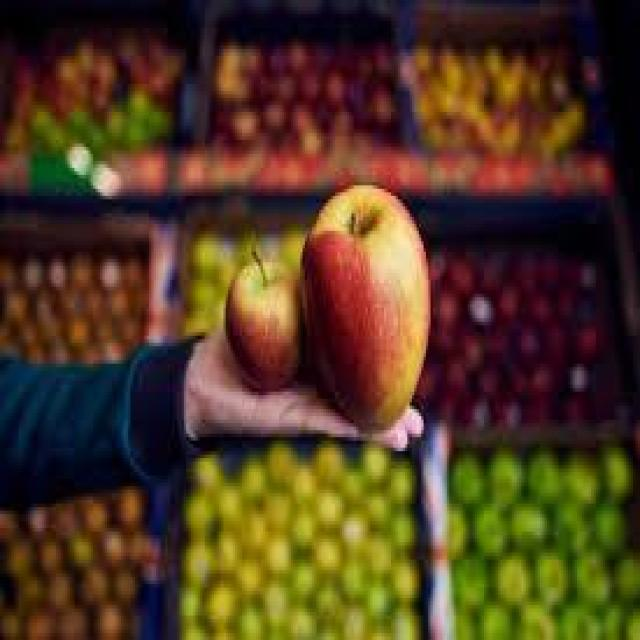maca: (298, 182, 430, 430), (223, 245, 300, 392)
